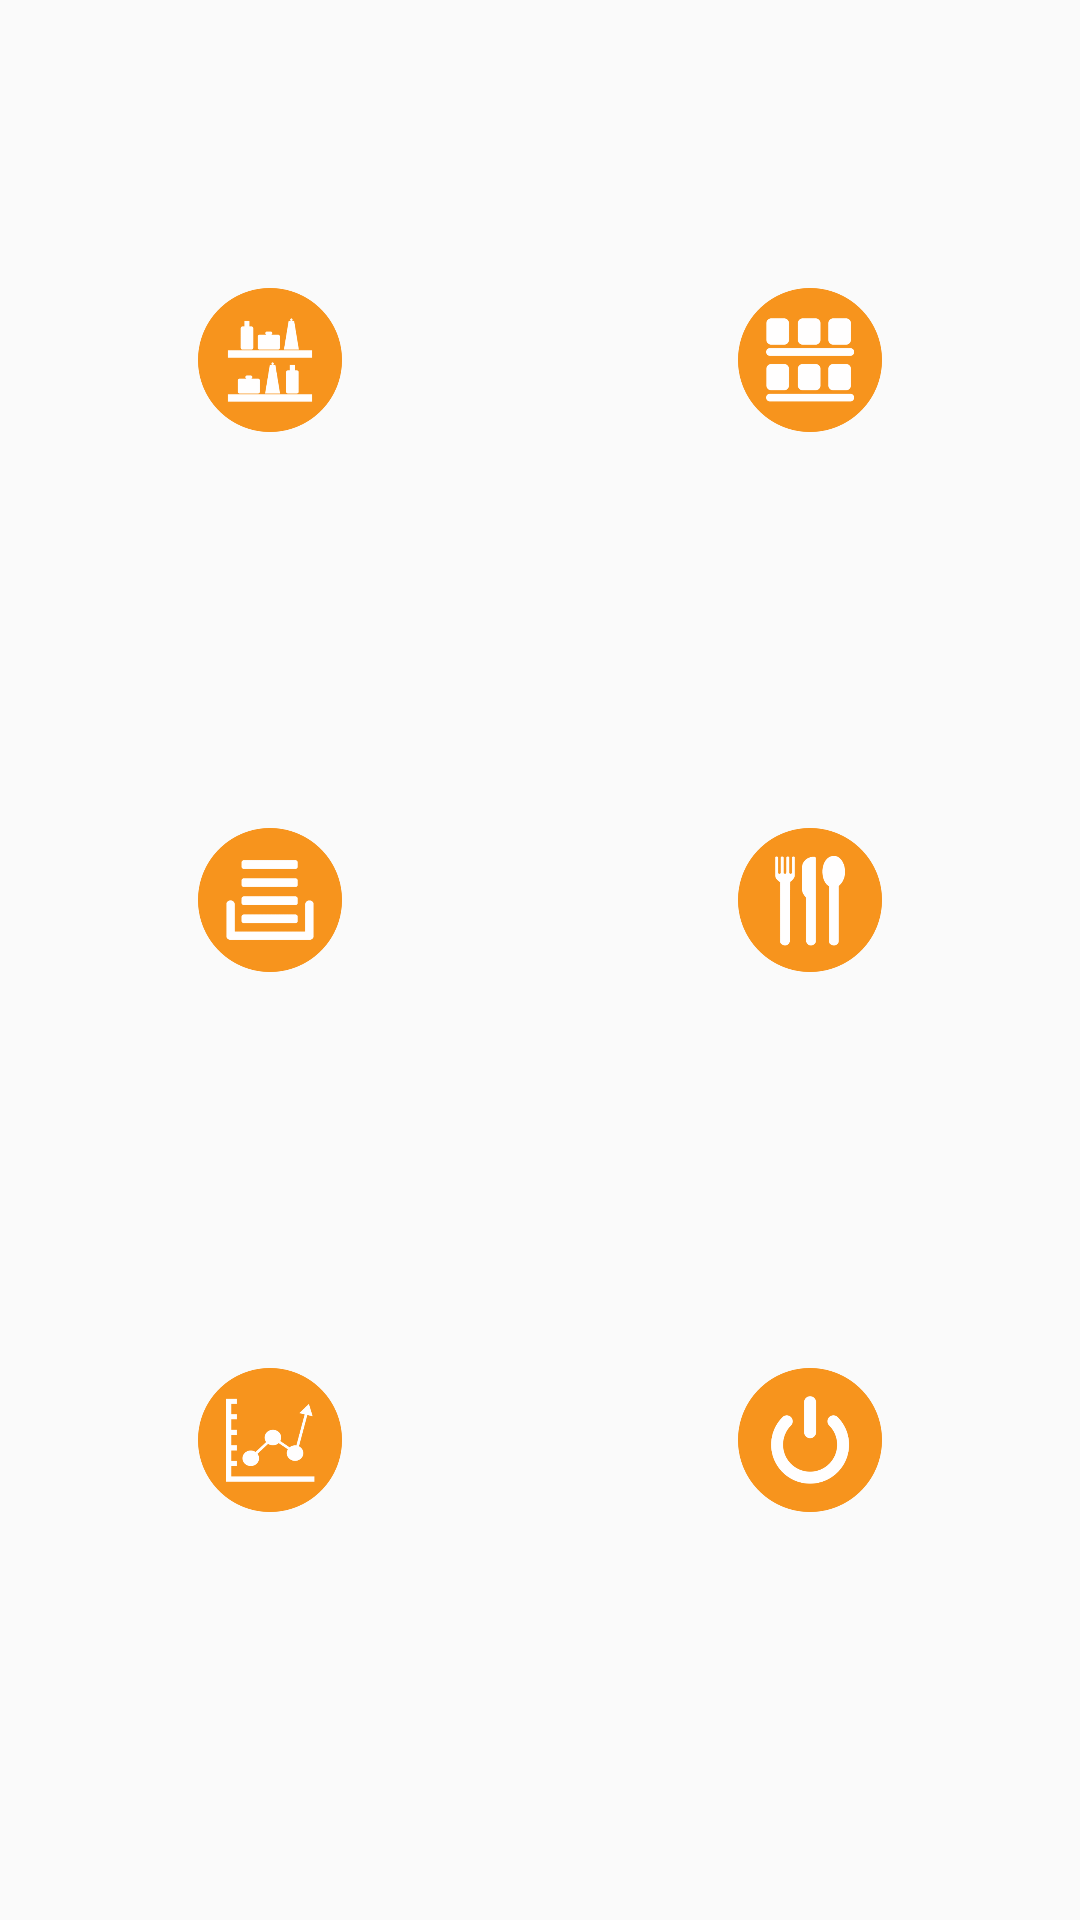

Point at icon controls on the screen. Image size 1080px×1920px, points as [x,y].
order: [810,900]
products: [810,360]
reports: [270,1440]
